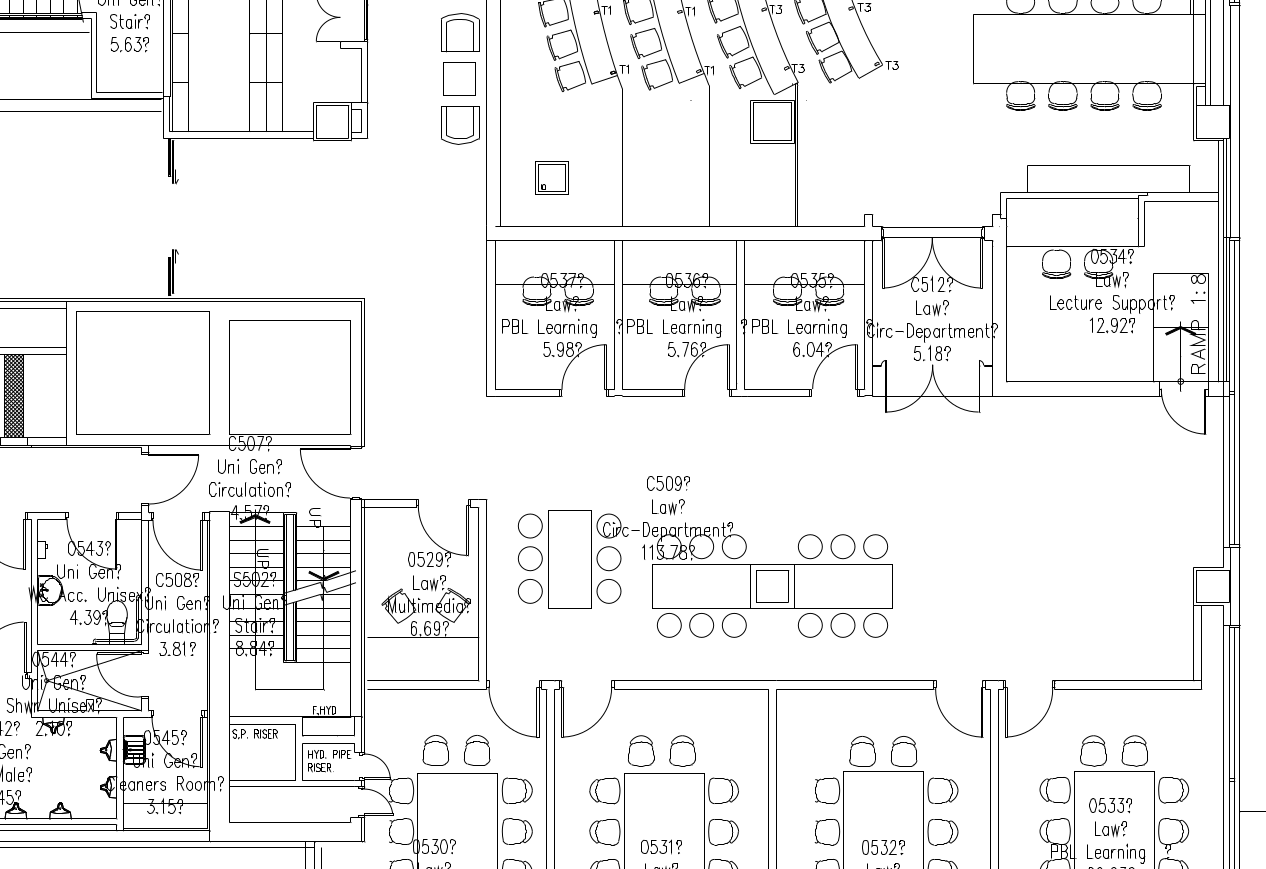door: (61, 505, 122, 579), (147, 505, 208, 579), (144, 703, 205, 777), (414, 495, 474, 562), (482, 680, 542, 747), (554, 678, 614, 745), (926, 676, 986, 743), (998, 676, 1058, 743), (931, 351, 985, 425), (879, 356, 933, 430), (807, 337, 861, 411), (677, 336, 731, 410), (557, 335, 611, 409), (878, 232, 932, 306), (932, 229, 986, 303), (1154, 381, 1208, 455), (144, 452, 205, 503), (290, 446, 351, 497), (359, 743, 391, 785), (361, 785, 393, 827)
